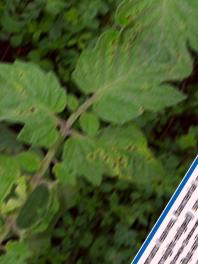Tomato leaf bacterial spot: (54, 15, 198, 148), (49, 99, 177, 217), (0, 33, 93, 156), (0, 135, 35, 197)
